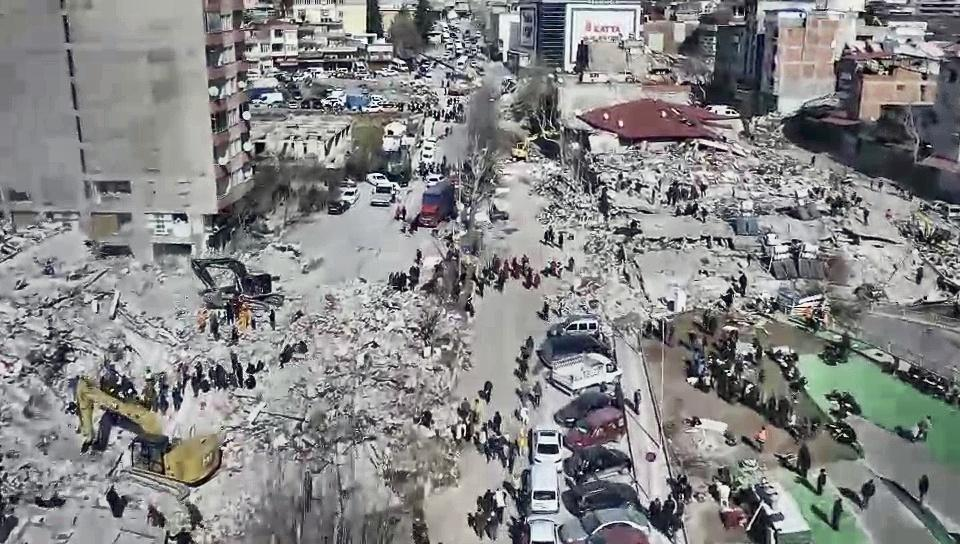kapali: (28, 220, 443, 543)
